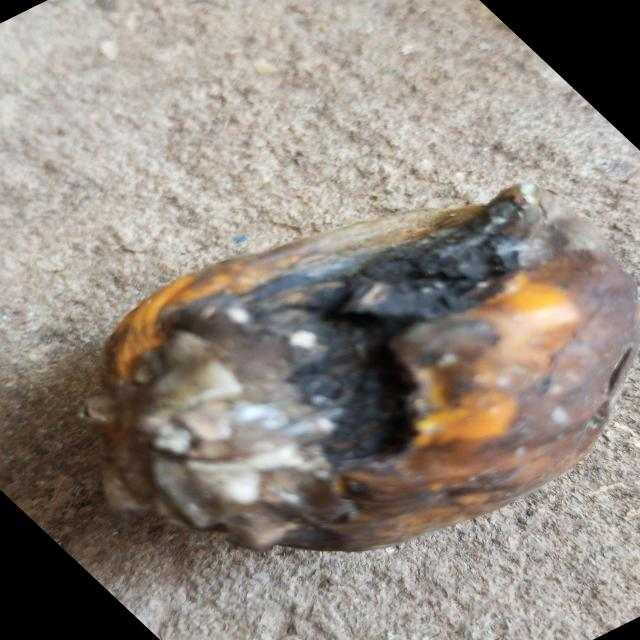damaged: (83, 184, 636, 550)
